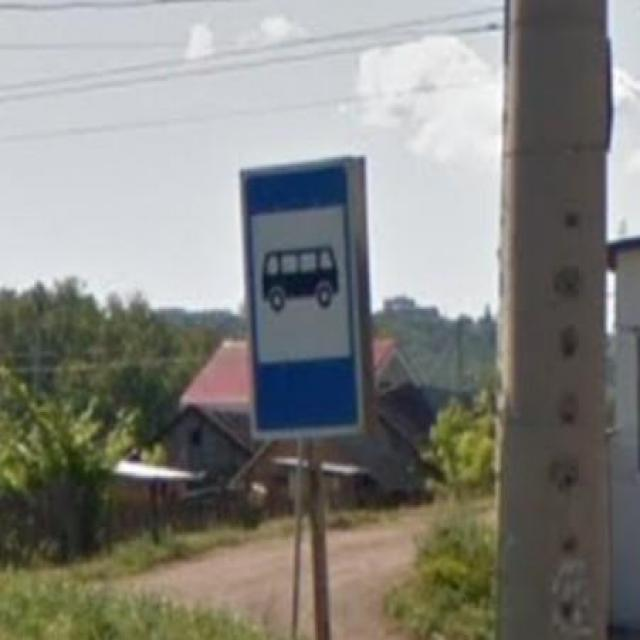bus_stop: (240, 156, 367, 442)
